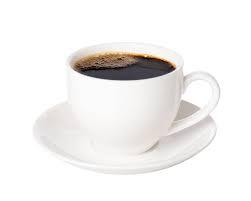cup: (68, 43, 219, 154)
